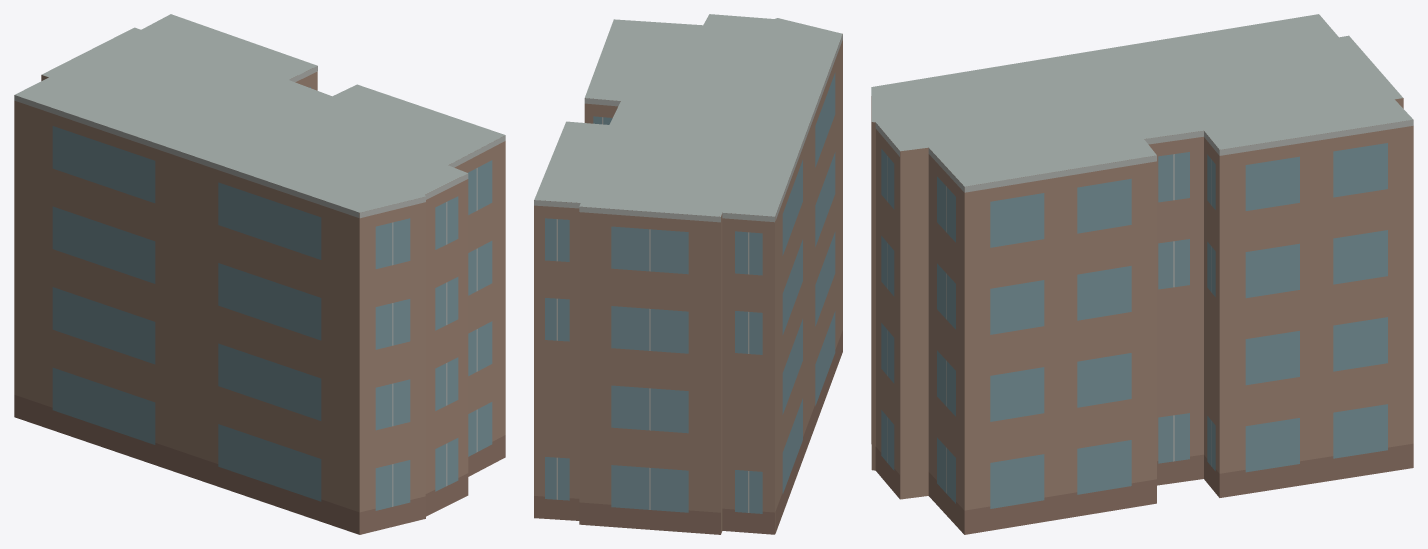
Rendered from survey-upis-32749302.glb.
3 views of the same model, side by side, from view 1: azimuth 30°, elevation 25°; view 2: azimuth 150°, elevation 25°; view 3: azimuth 270°, elevation 25° (orthographic). The views are drawn at different scales.
Parts seen in each view (by area): view 1: survey-upis-32749302.tmp; view 2: survey-upis-32749302.tmp; view 3: survey-upis-32749302.tmp.
Part boxes in pixels (x1,y1,x2,y2): survey-upis-32749302.tmp: (14,14,505,534); survey-upis-32749302.tmp: (534,14,842,534); survey-upis-32749302.tmp: (871,14,1413,534).
Bounding box in the file's own units: 14.9 × 14 × 19.77.
